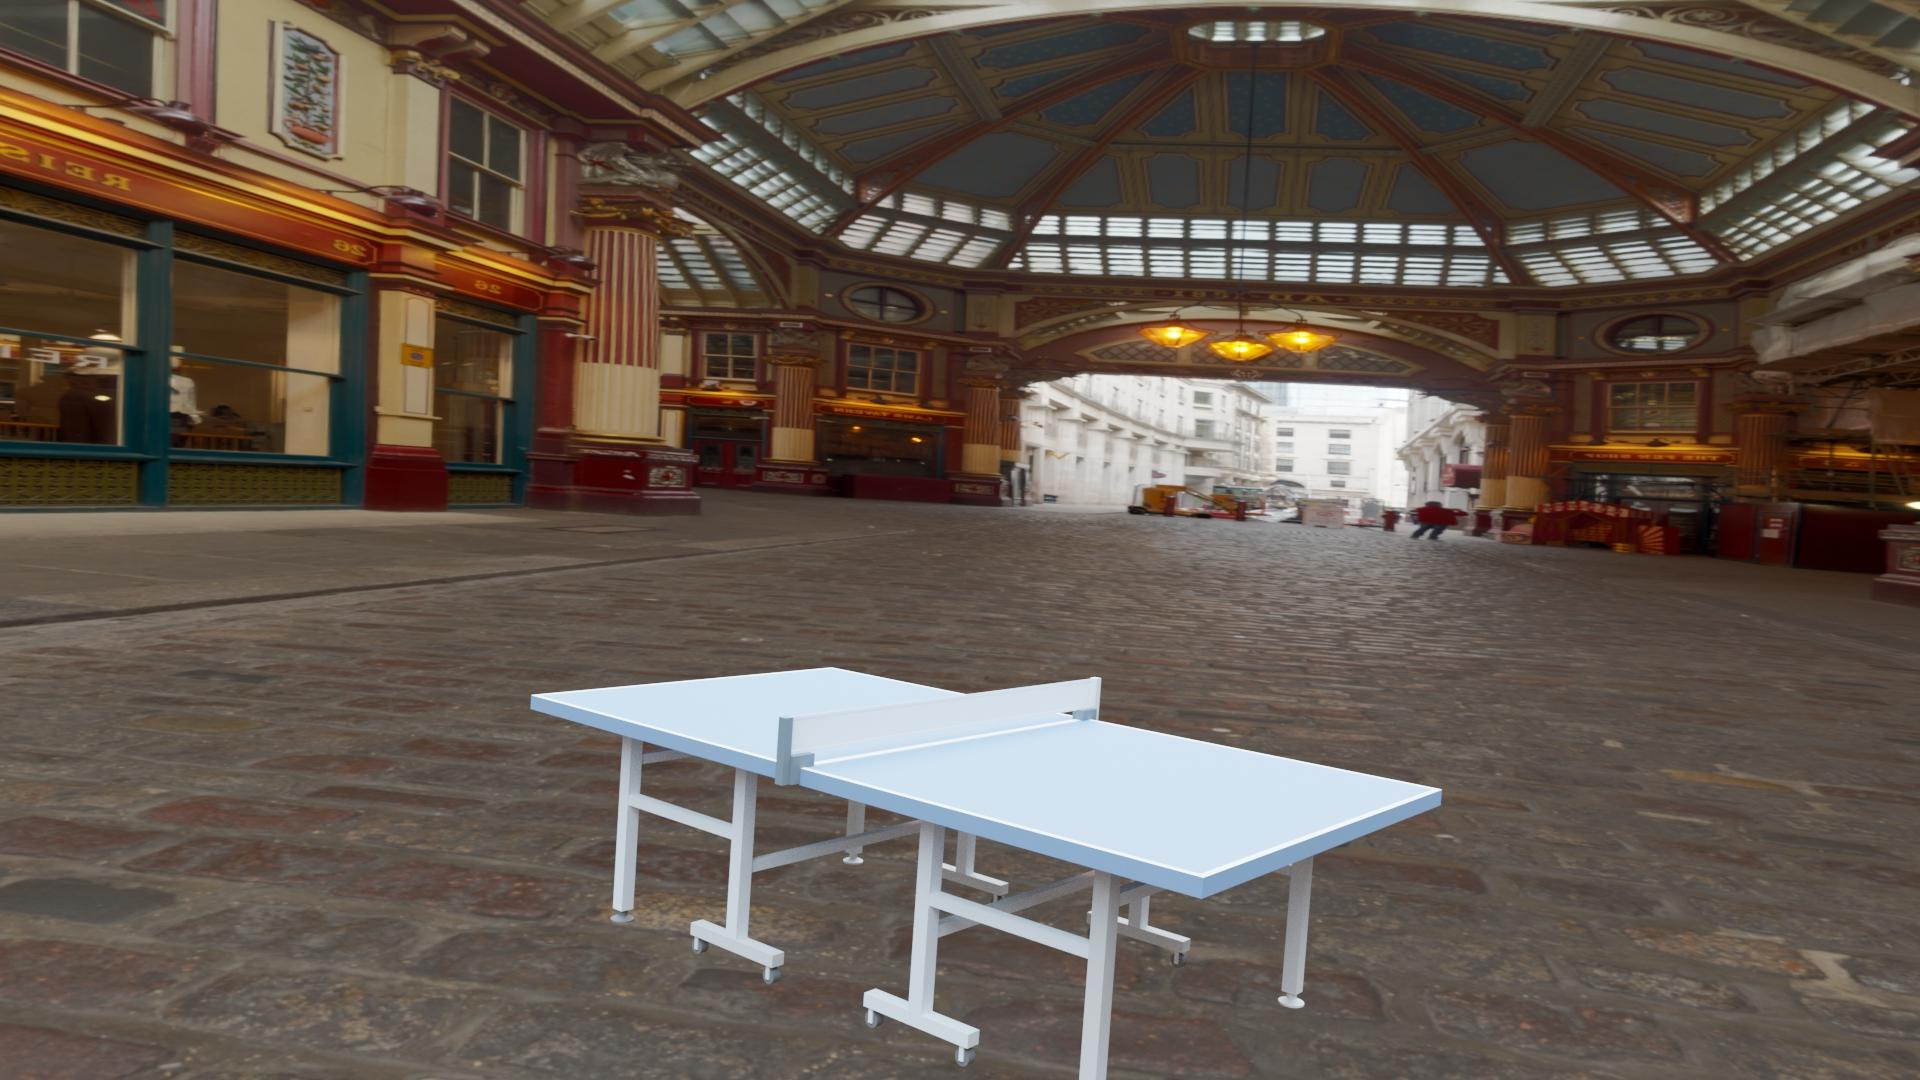table: (539, 669, 1433, 874)
